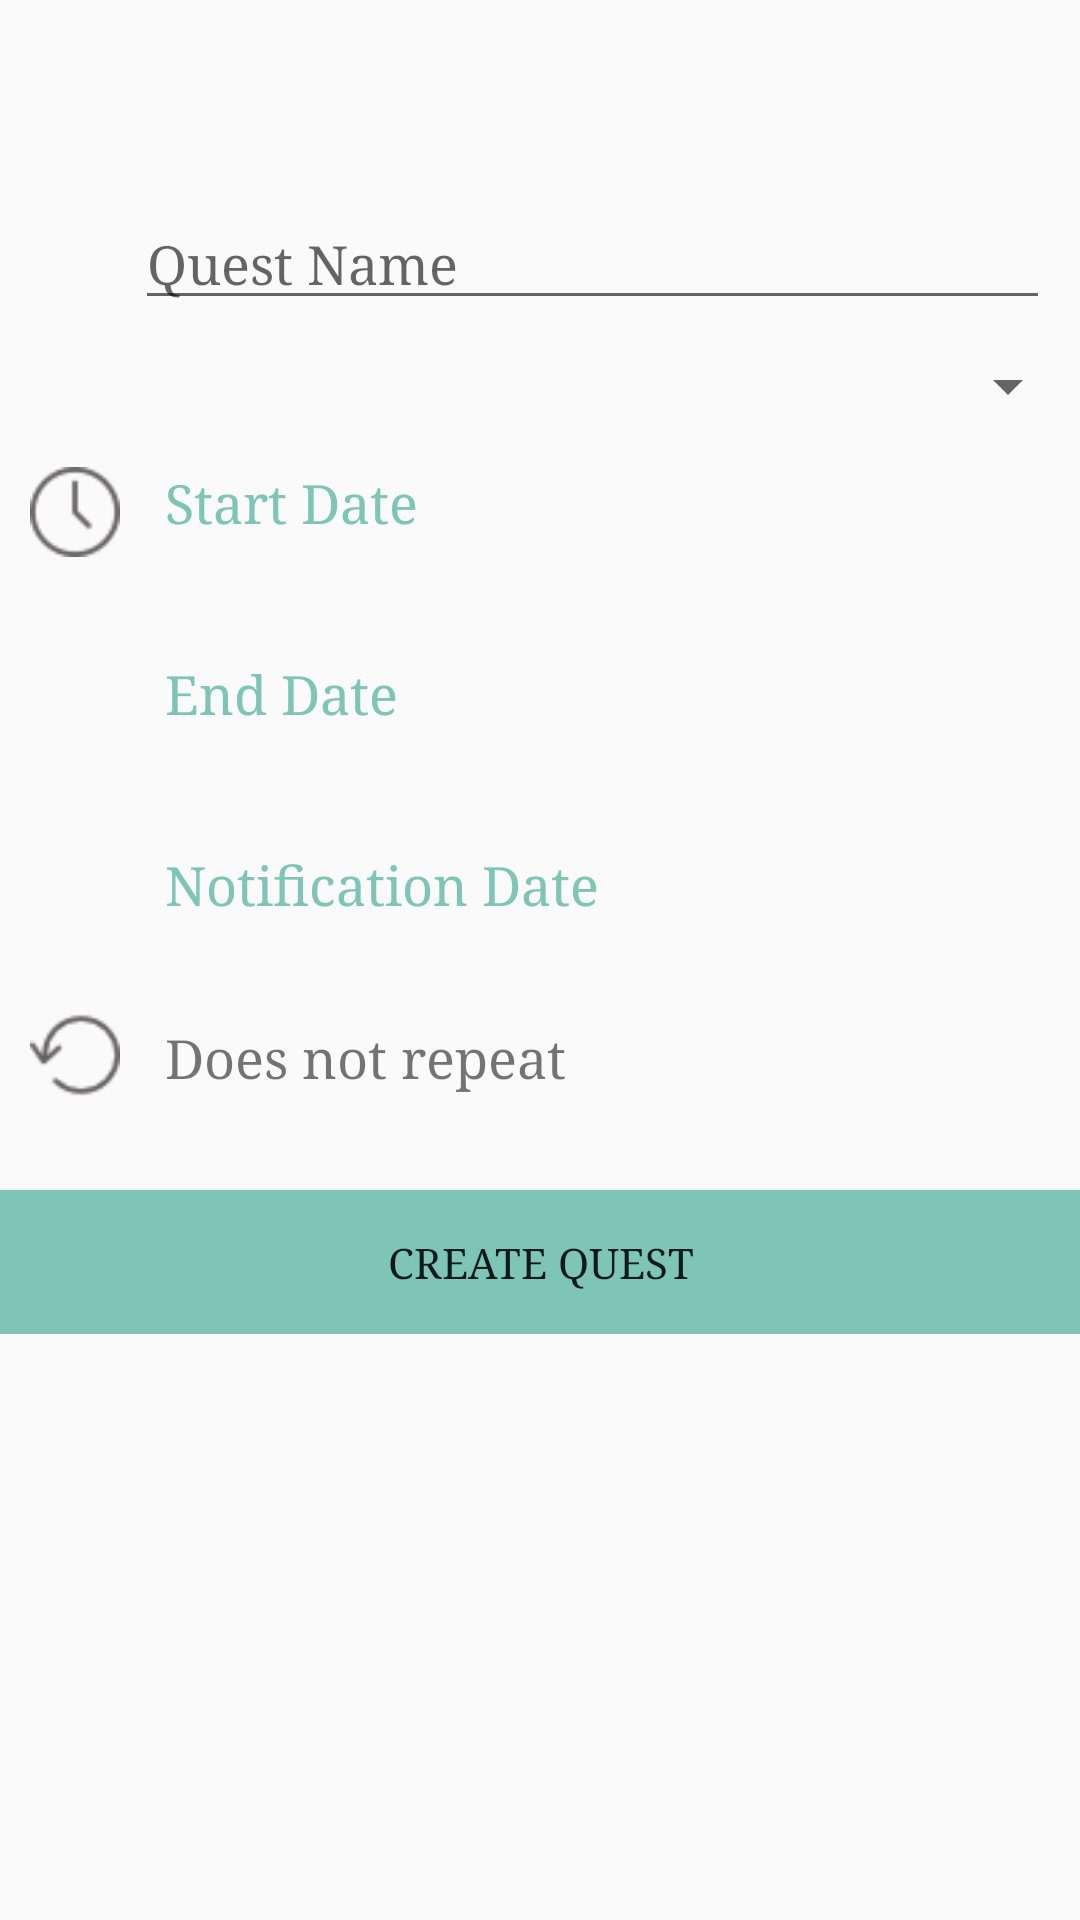

Where to tap for icons on this 1080 × 1920 app screen, as [x,y]:
clock: [75,512]
refresh: [75,1055]
